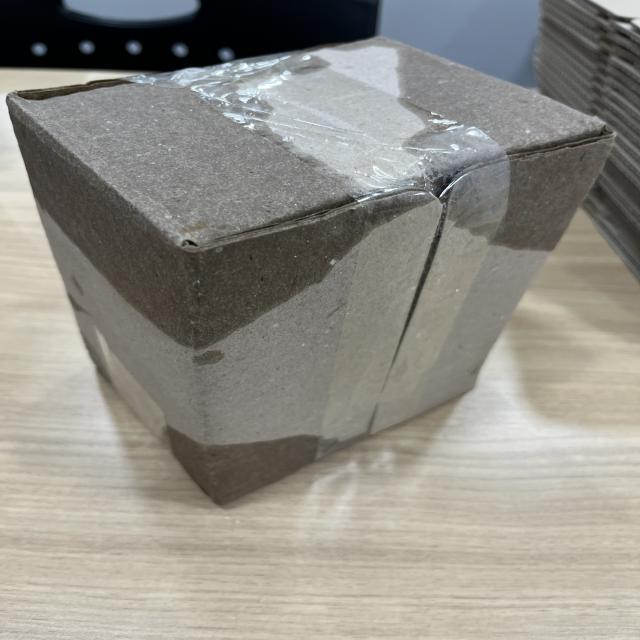wet: (8, 78, 391, 348), (353, 38, 612, 250), (166, 426, 320, 505)
